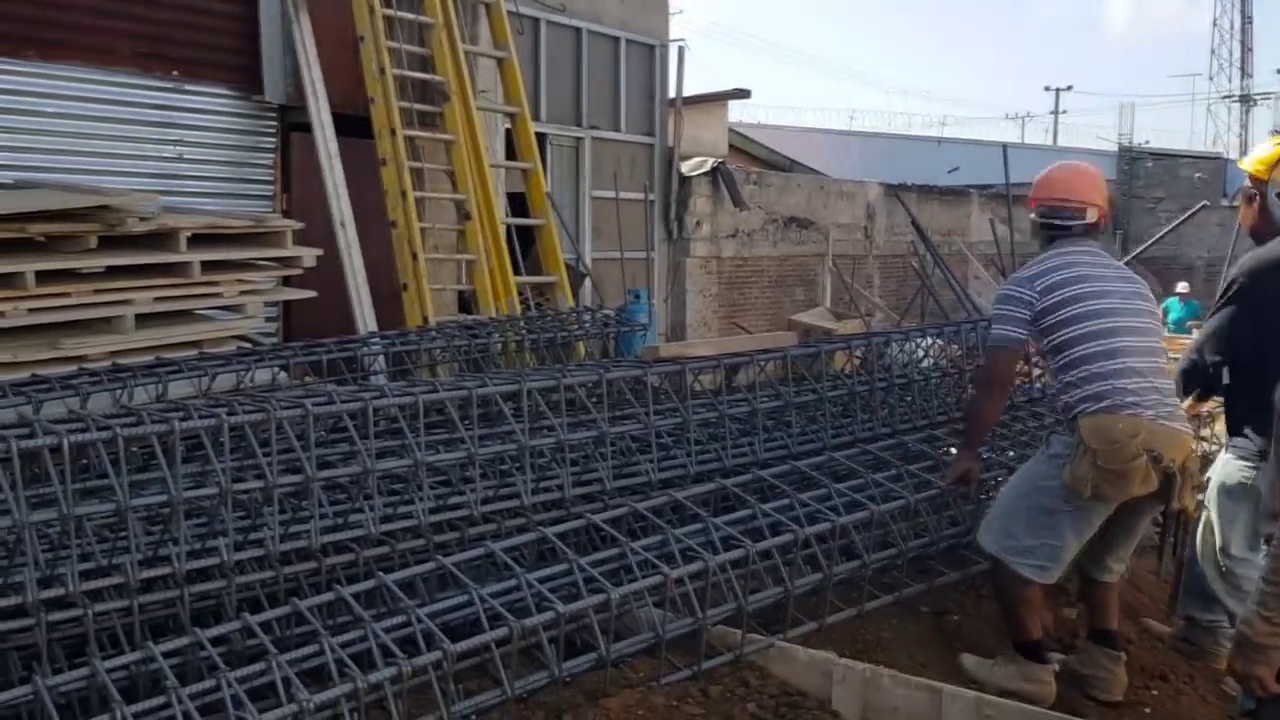helmet: (1023, 159, 1110, 228), (1234, 141, 1280, 179), (1175, 283, 1191, 304), (1174, 282, 1192, 295)
helmet-on: (1024, 161, 1110, 259), (1230, 135, 1280, 250)
person: (949, 157, 1197, 678), (1184, 135, 1280, 681), (1160, 281, 1201, 338)
